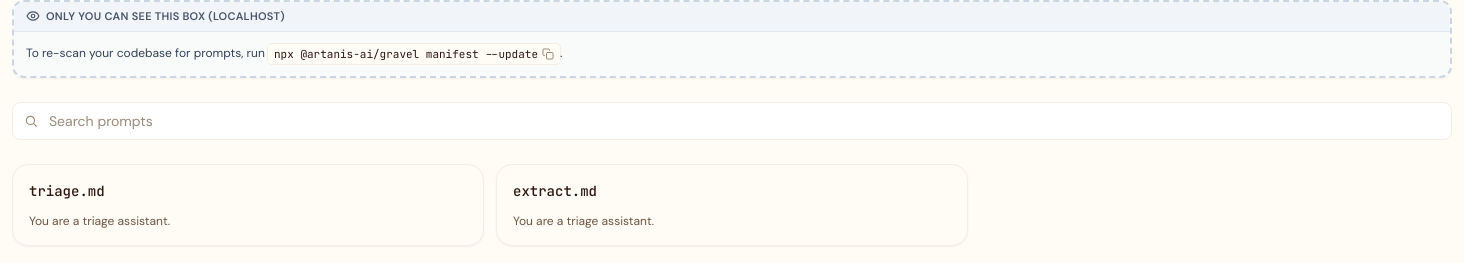
Scenario: Prompts list › filters the list with the search box
Expected: the text "triage.md" is shown, [29,182,105,200]
Type "extract" into the search field labelled "Search prompts" at (732, 120), box [12,102,1452,140]
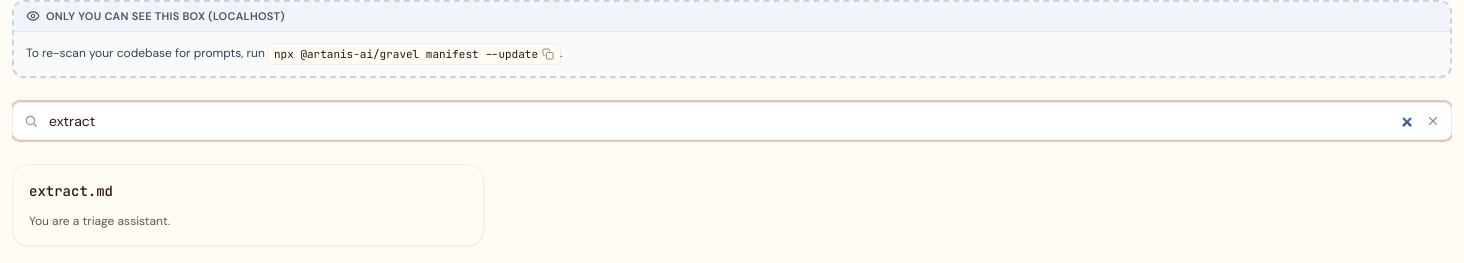
Expected: the text "extract.md" is shown, [29,182,113,200]
Expected: the link "triage.md" is gone
